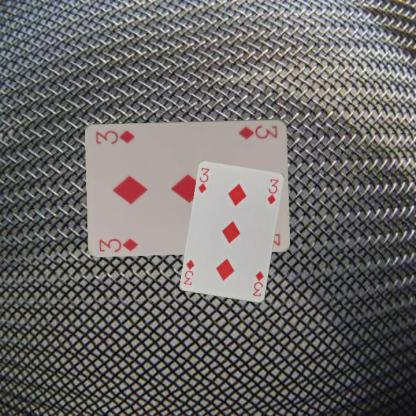3d: (96, 235, 140, 253), (236, 122, 278, 140), (250, 268, 265, 298), (196, 165, 211, 195)
